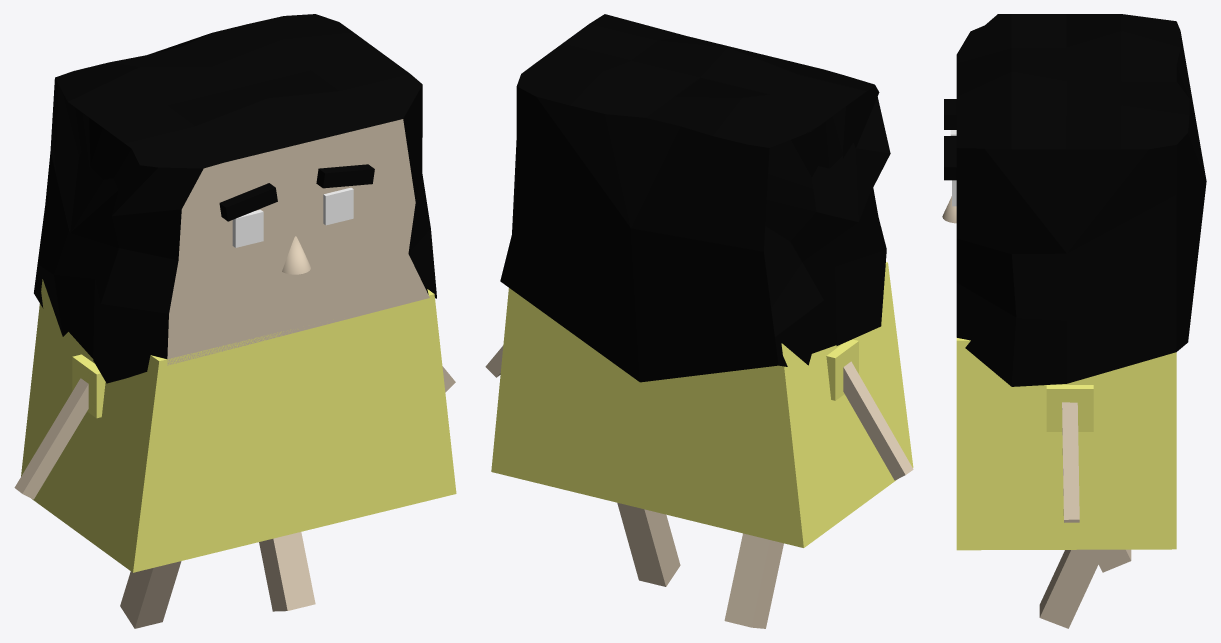
Rendered from new201vertexGirl.fbx.
The picture shows the model from 3 angles, left to right: view 1: azimuth 30°, elevation 25°; view 2: azimuth 150°, elevation 25°; view 3: azimuth 270°, elevation 25°; orthographic projection. The views are drawn at different scales.
Visible parts, largest first — view 1: polySurface2, polySurface1, polySurface4, polySurface5, polySurface3, polySurface6, polySurface9, polySurface10, polySurface11, polySurface12, polySurface13; view 2: polySurface2, polySurface1, polySurface3, polySurface4, polySurface5, polySurface6; view 3: polySurface2, polySurface1, polySurface4, polySurface8, polySurface7, polySurface10, polySurface3, polySurface9.
Boxes of the visible parts, <box> form: polySurface2: <box>34,14,436,383</box>; polySurface1: <box>21,279,456,572</box>; polySurface4: <box>259,532,315,611</box>; polySurface5: <box>14,378,88,499</box>; polySurface3: <box>120,561,181,628</box>; polySurface6: <box>72,354,105,418</box>; polySurface9: <box>219,183,277,221</box>; polySurface10: <box>316,164,374,188</box>; polySurface11: <box>232,209,263,247</box>; polySurface12: <box>323,187,353,225</box>; polySurface13: <box>282,236,310,274</box>; polySurface2: <box>500,14,890,382</box>; polySurface1: <box>491,262,913,547</box>; polySurface3: <box>724,533,783,628</box>; polySurface4: <box>617,503,680,586</box>; polySurface5: <box>843,361,913,480</box>; polySurface6: <box>826,339,858,400</box>; polySurface2: <box>956,14,1206,386</box>; polySurface1: <box>956,338,1176,550</box>; polySurface4: <box>1039,549,1104,628</box>; polySurface8: <box>1062,402,1079,522</box>; polySurface7: <box>1046,384,1093,431</box>; polySurface10: <box>944,136,956,180</box>; polySurface3: <box>1098,549,1131,572</box>; polySurface9: <box>944,99,956,129</box>.
Bounding box in the file's own units: 1.55 × 1.88 × 0.8412.
